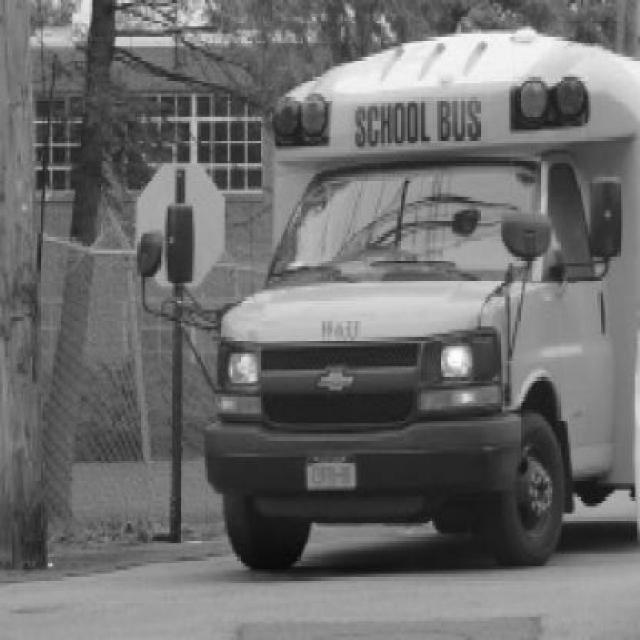Bus- Small: (135, 29, 640, 573)
